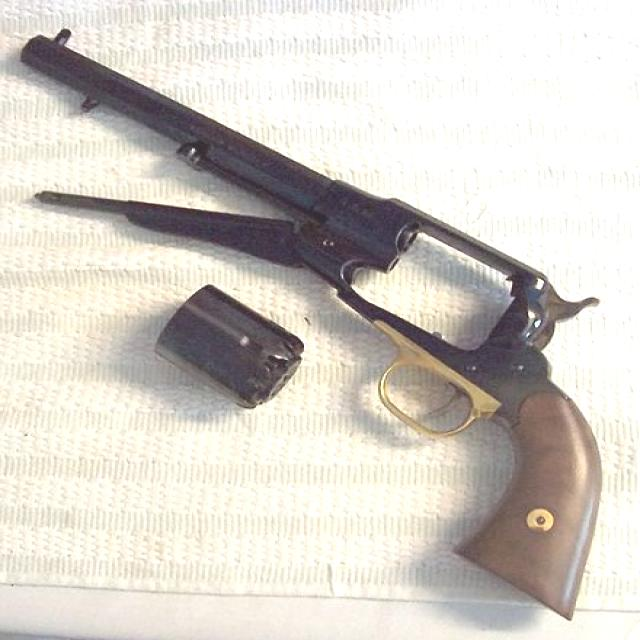pistol: (20, 26, 621, 624)
